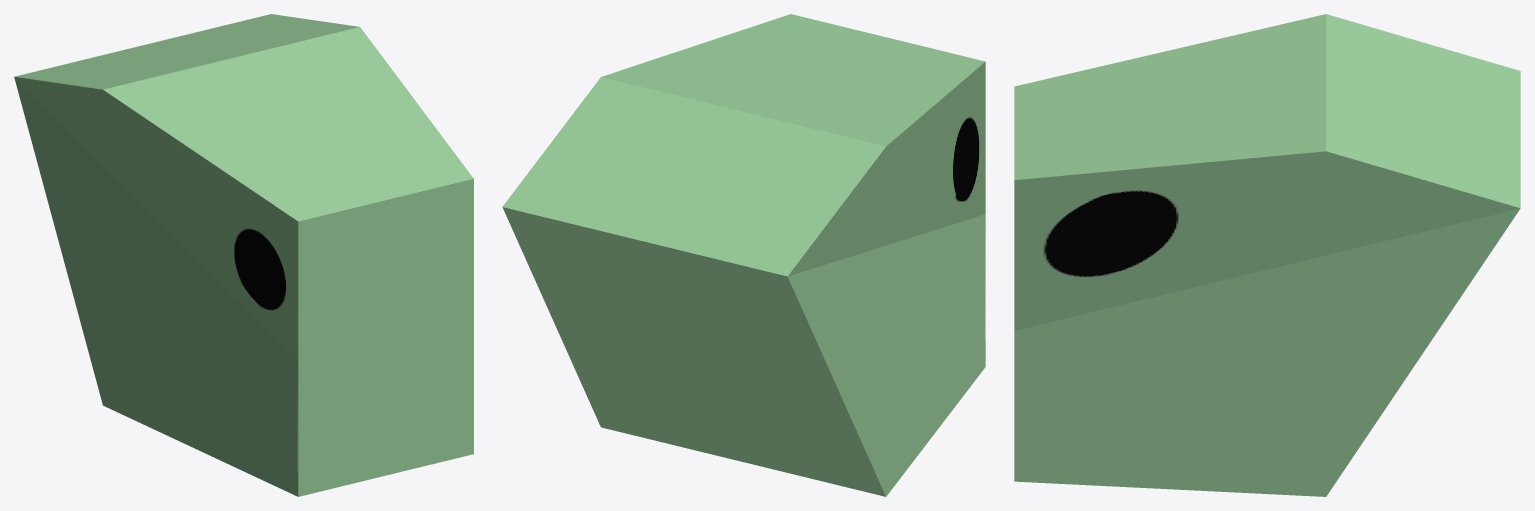
The model's file is player.obj.
3 renders of one model, left to right at view 1: azimuth 30°, elevation 25°; view 2: azimuth 150°, elevation 25°; view 3: azimuth 270°, elevation 25°, orthographic. The views are drawn at different scales.
Visible parts, largest first — view 1: 立方体; view 2: 立方体; view 3: 立方体.
Boxes of the visible parts, x1,y1,x2,y2 form: 立方体: (14, 14, 473, 496); 立方体: (502, 14, 985, 496); 立方体: (1014, 14, 1520, 496).
Size of the model in its own units: 0.886 by 1.04 by 1.38.
Materials: 1 (1 with a texture image).
